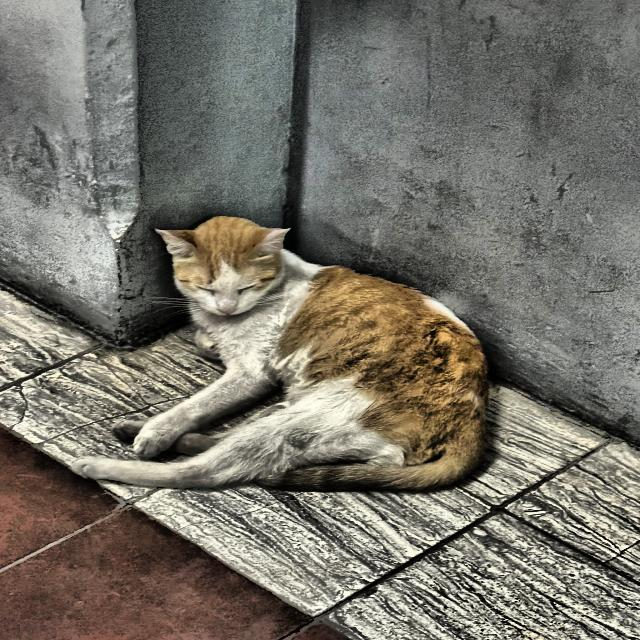Healthy skin: (312, 307, 434, 417)
